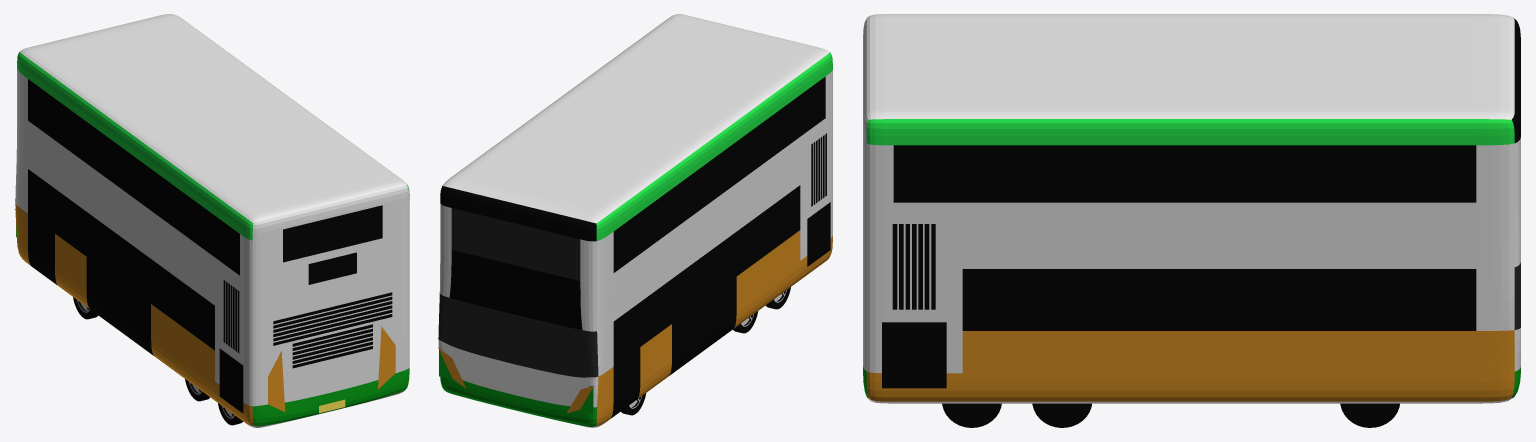
Rendered from Bus01.fbx.
The picture shows the model from 3 angles, left to right: view 1: azimuth 30°, elevation 25°; view 2: azimuth 150°, elevation 25°; view 3: azimuth 270°, elevation 25°; orthographic projection. The views are drawn at different scales.
Visible parts, largest first — view 1: Cube.001; view 2: Cube.001; view 3: Cube.001, WheelRightFront.001, WheelRightBehind.001, WheelRightMid.
Boxes of the visible parts, x1,y1,x2,y2 form: Cube.001: (15, 14, 409, 427); Cube.001: (438, 14, 832, 427); Cube.001: (863, 14, 1520, 403); WheelRightFront.001: (1340, 403, 1399, 427); WheelRightBehind.001: (942, 403, 1001, 427); WheelRightMid: (1032, 403, 1091, 427).
Bounding box in the file's own units: 469 × 641 × 1188.
